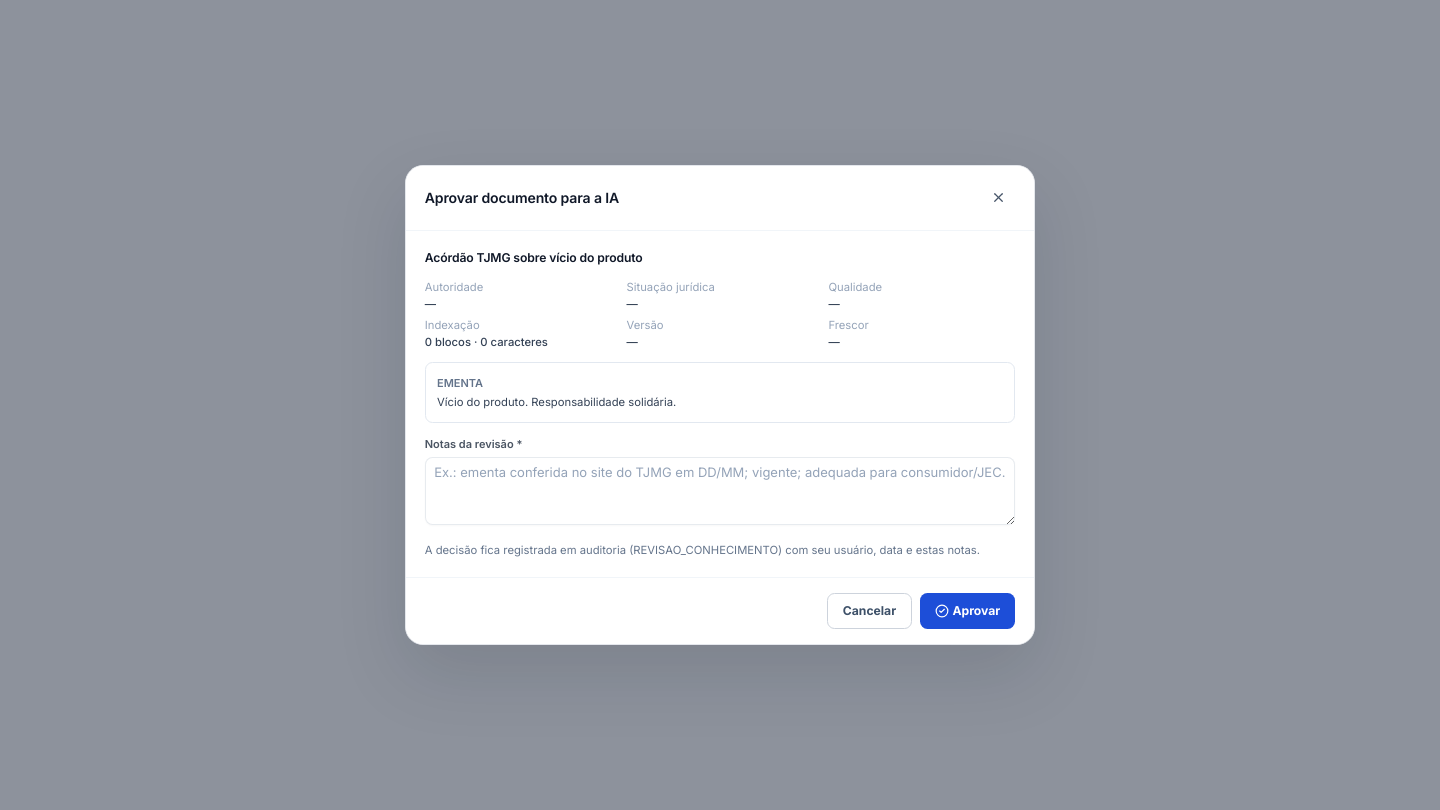
Test case: notas obrigatórias › recusa o envio com notas em branco e explica o motivo
The image size is (1440, 810).
Check: the heading "Acórdão TJMG sobre vício do produto" is shown, box x1=425 y1=250 x2=643 y2=265
Click the button "Aprovar" at (967, 611), box x1=920 y1=593 x2=1015 y2=629
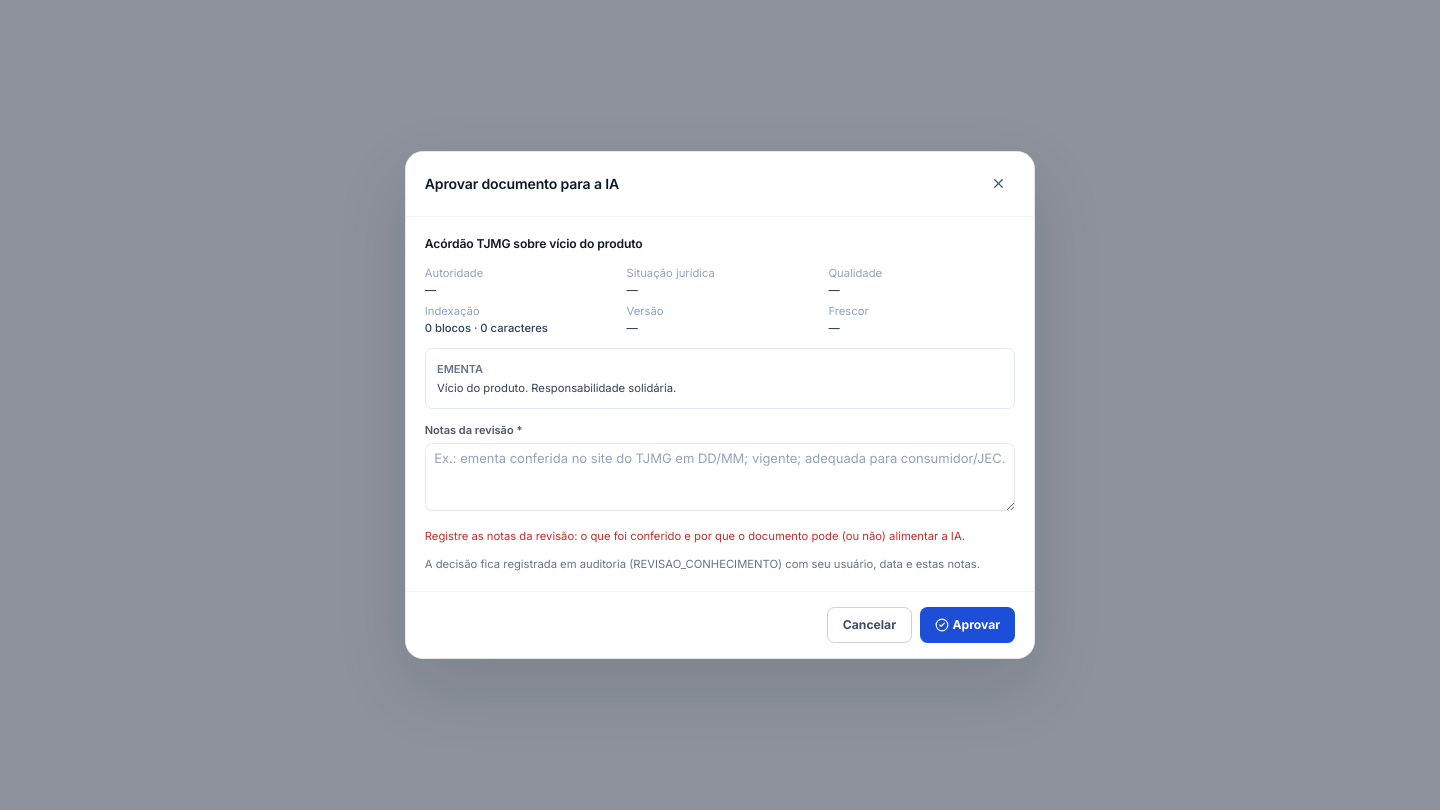
Check: the message shows "Registre as notas da revisão: o que foi conferido e por que o documento pode (ou não) alimentar a IA.", box x1=425 y1=529 x2=965 y2=543
